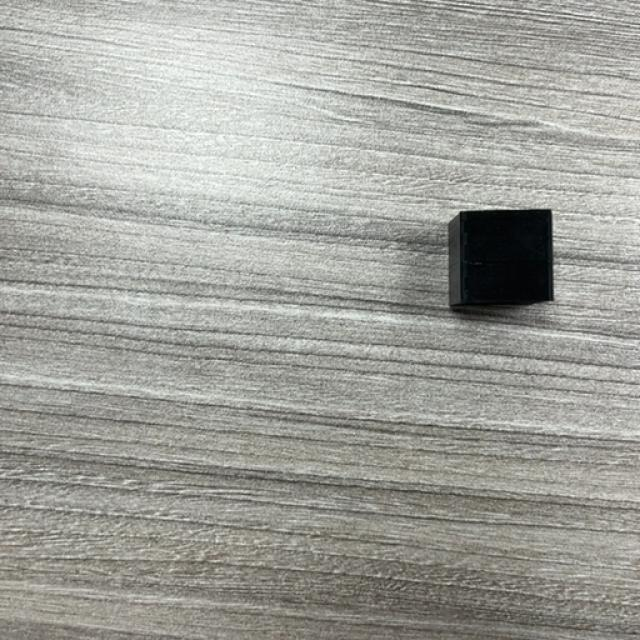Negro: (450, 209, 556, 312)
